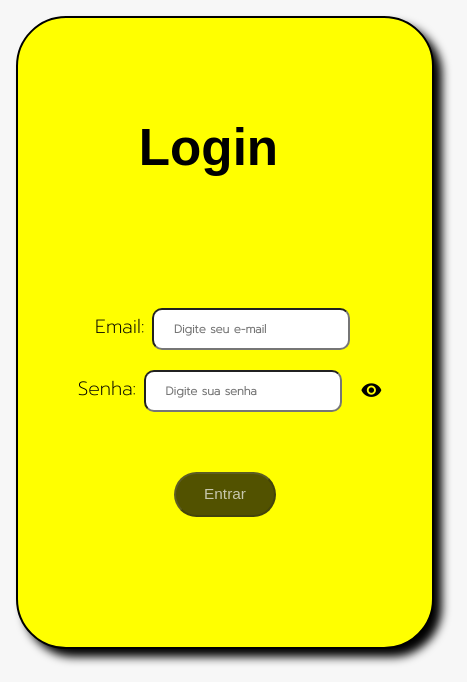
Test: Verifica funcionalidades da tela de login › Verifica se o botão foi habilitado
This screenshot has width=467, height=682.
Step 1. Type "teste@teste.com" into the field labelled "Email:" → (251, 328), box 152,308 -> 350,350
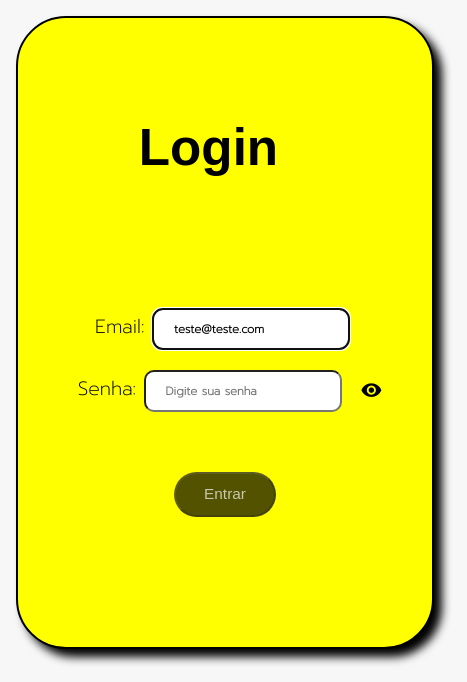
Step 2. Type "12345678" into the password field labelled "Senha:" → (243, 390), box 144,370 -> 342,412
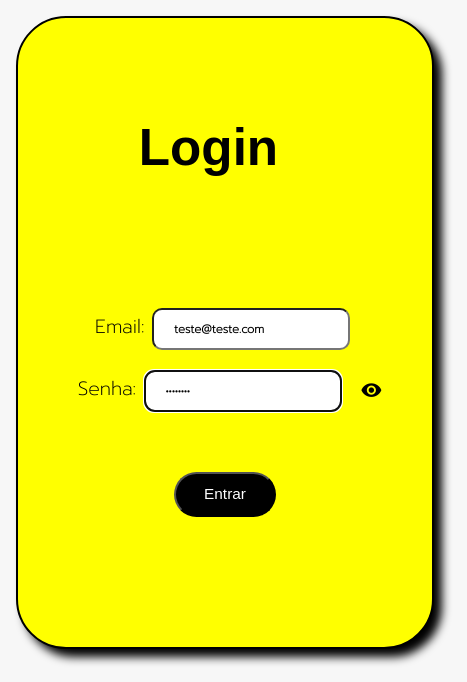
Expected: the button "Entrar" is enabled, 174,472 -> 276,516
